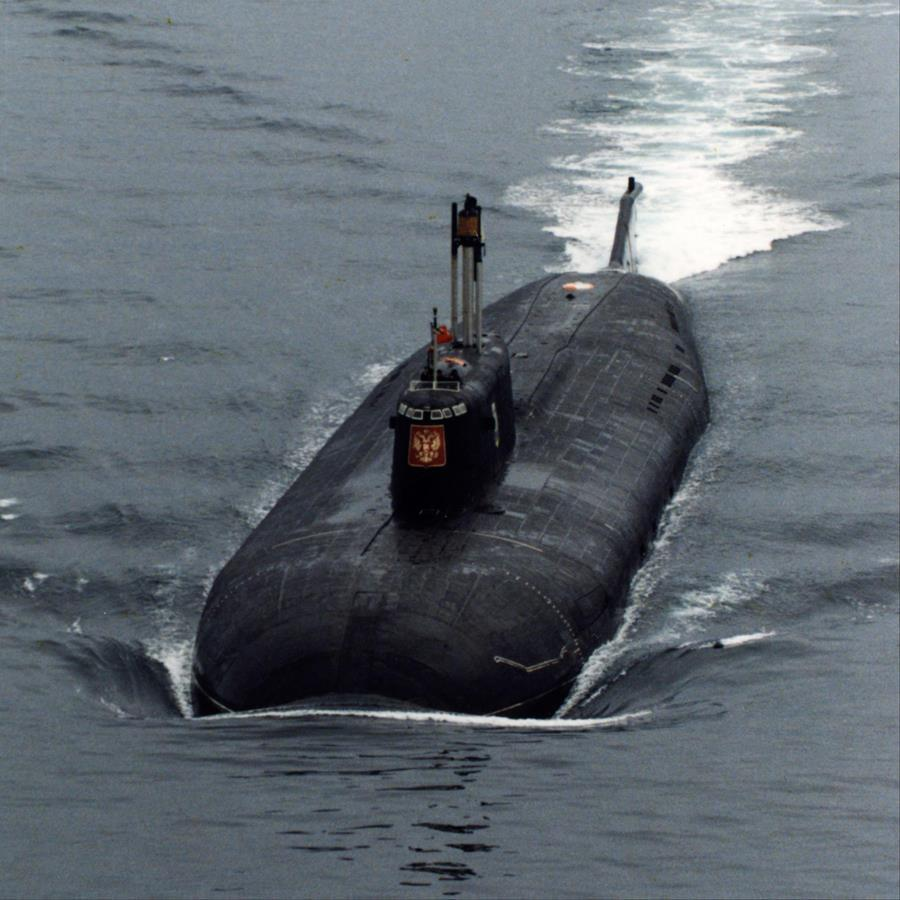Submarine: (92, 55, 880, 867)
